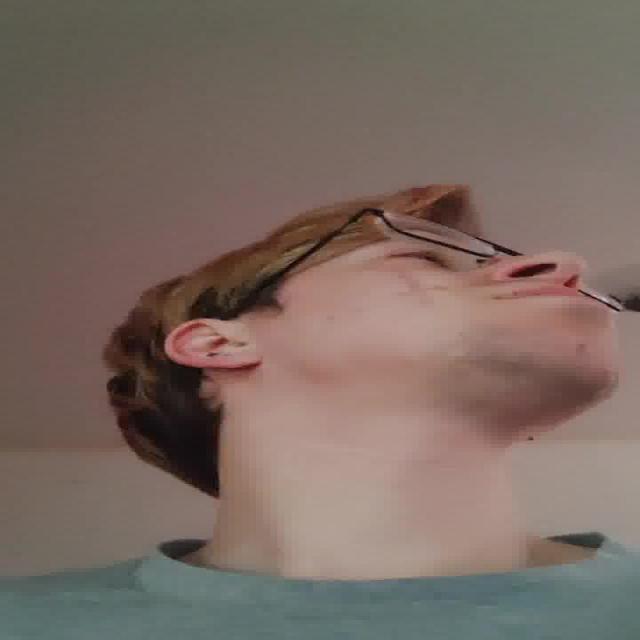earlobe: (207, 350, 261, 370)
eye: (374, 249, 458, 270)
nose: (497, 268, 588, 290)
wholeear: (167, 319, 258, 369)
